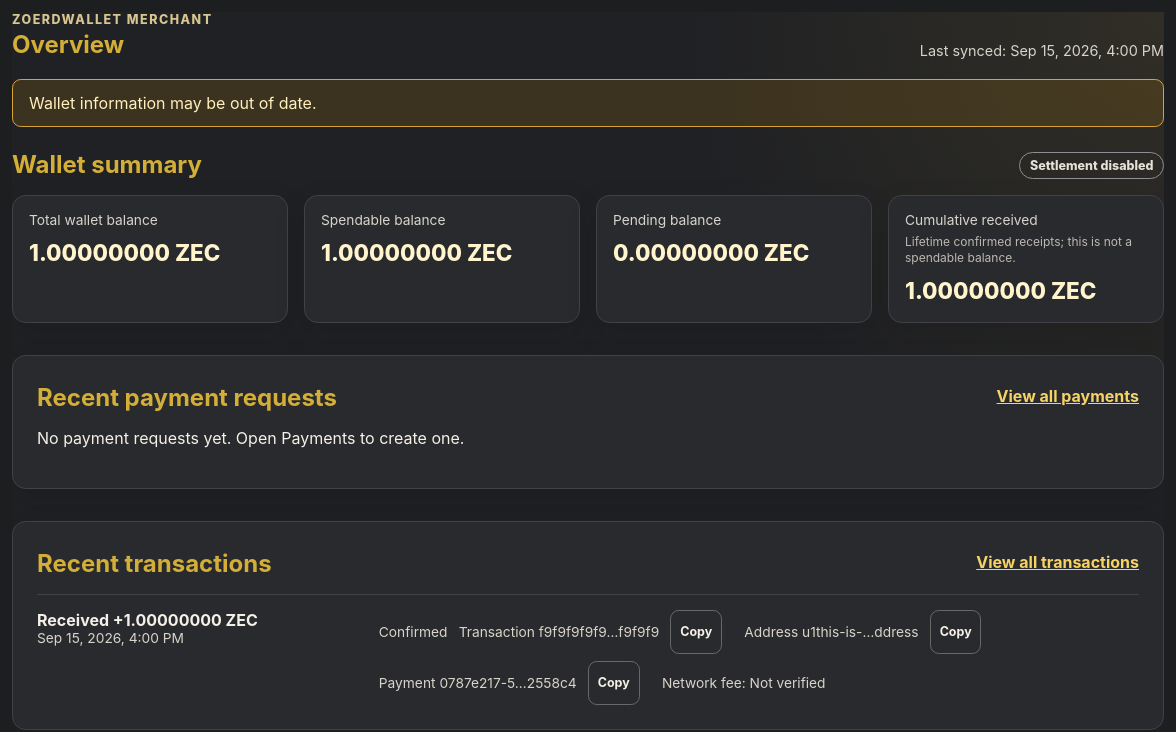
it: dashboard copy controls › writes the full transaction ID rather than its shortened display
Click the button with aria-label "Copy transaction ID" at coordinates (696, 632), box [670, 610, 722, 654]
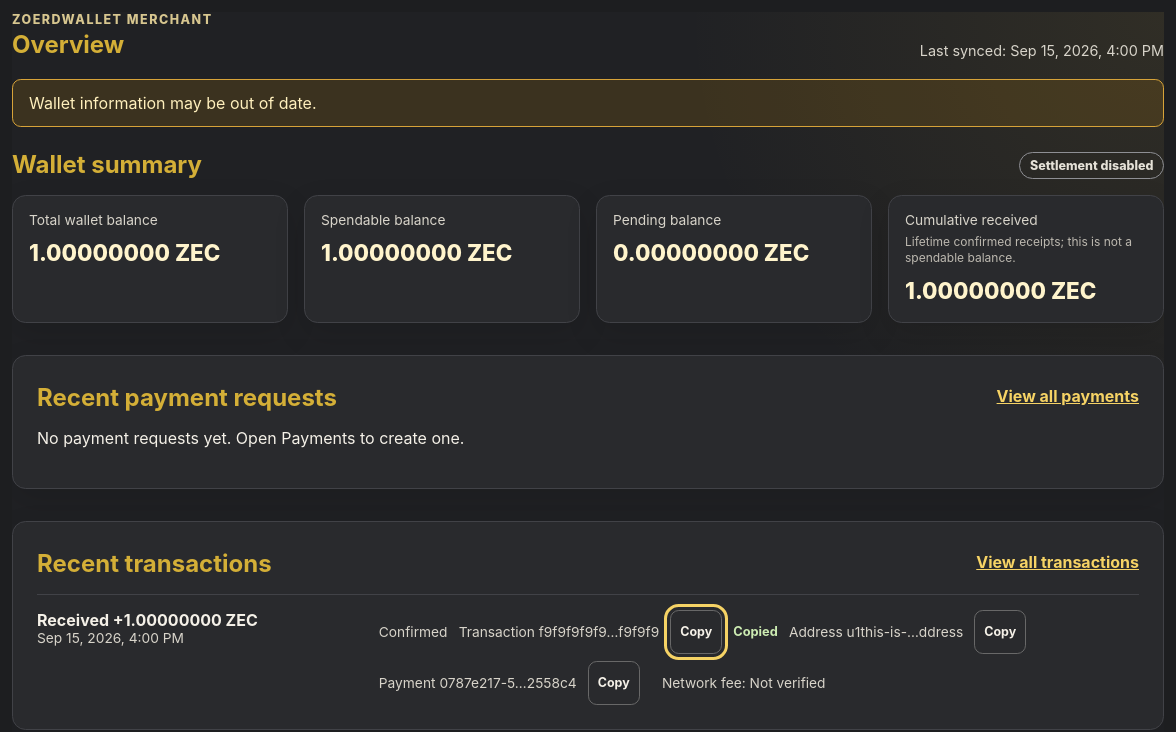
Expected: the message named "transaction ID copy status" reads "Copied", [733, 624, 778, 639]
